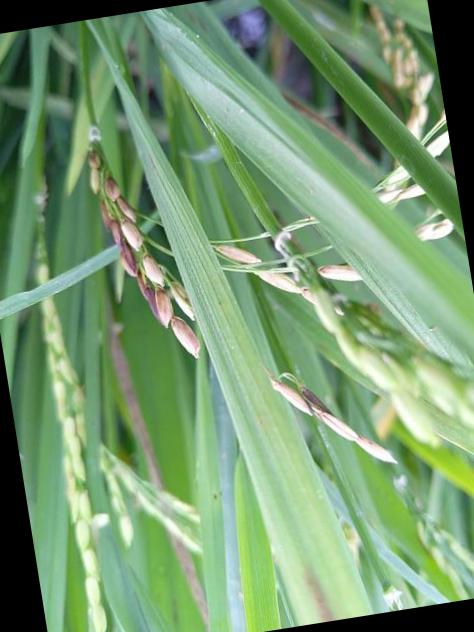Panicle Blight: (170, 315, 199, 358), (150, 285, 174, 327), (140, 248, 164, 287), (300, 387, 330, 413), (120, 216, 142, 251), (105, 215, 125, 251), (116, 195, 138, 226), (144, 284, 161, 322), (119, 245, 138, 276), (99, 191, 114, 230), (133, 266, 149, 300), (104, 175, 121, 201), (87, 147, 103, 171)
